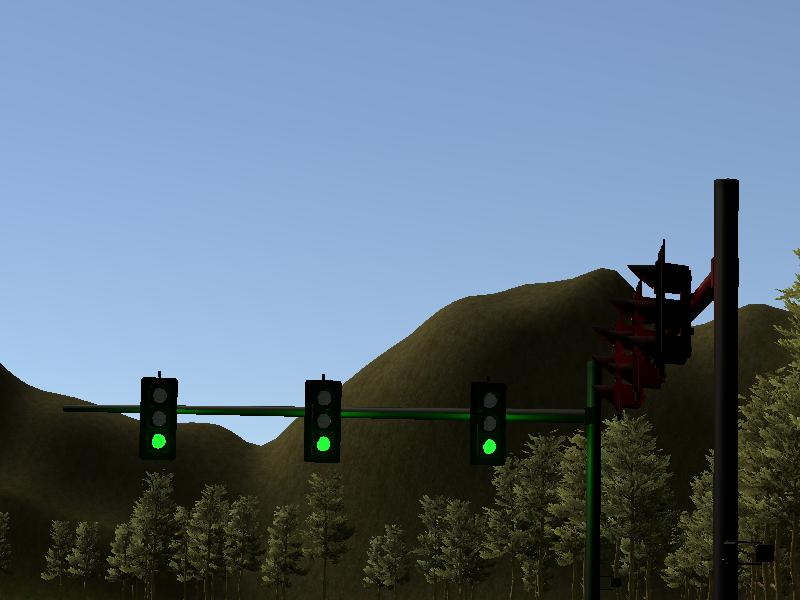Green: (469, 384, 505, 465), (306, 379, 340, 461), (142, 377, 175, 459)
